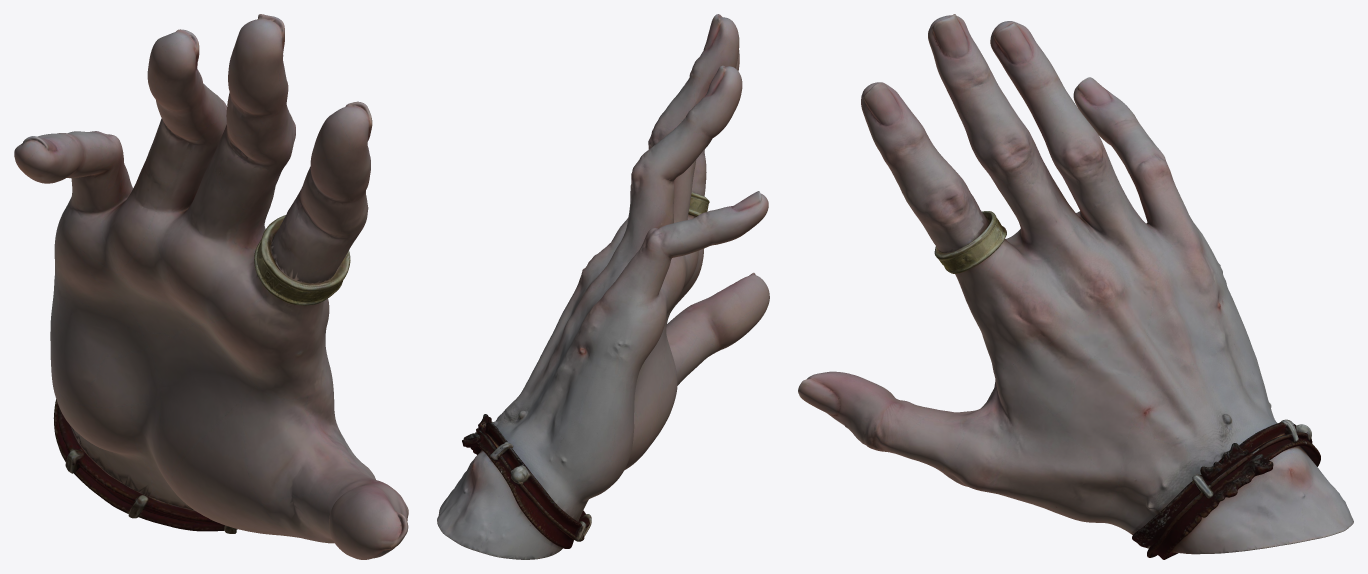
3 renders of one model, left to right at view 1: azimuth 30°, elevation 25°; view 2: azimuth 150°, elevation 25°; view 3: azimuth 270°, elevation 25°, orthographic. The views are drawn at different scales.
Visible parts, largest first — view 1: tripo_node_9160f96b-05f1-4f14-ad1b-0eaa1200327d; view 2: tripo_node_9160f96b-05f1-4f14-ad1b-0eaa1200327d; view 3: tripo_node_9160f96b-05f1-4f14-ad1b-0eaa1200327d.
Part boxes in pixels (x1,y1,x2,y2): tripo_node_9160f96b-05f1-4f14-ad1b-0eaa1200327d: (14, 14, 408, 559); tripo_node_9160f96b-05f1-4f14-ad1b-0eaa1200327d: (437, 14, 769, 559); tripo_node_9160f96b-05f1-4f14-ad1b-0eaa1200327d: (798, 14, 1353, 559).
Size of the model in its own units: 0.5689 by 0.9999 by 0.9996.
Materials: 1 (1 with a texture image).
